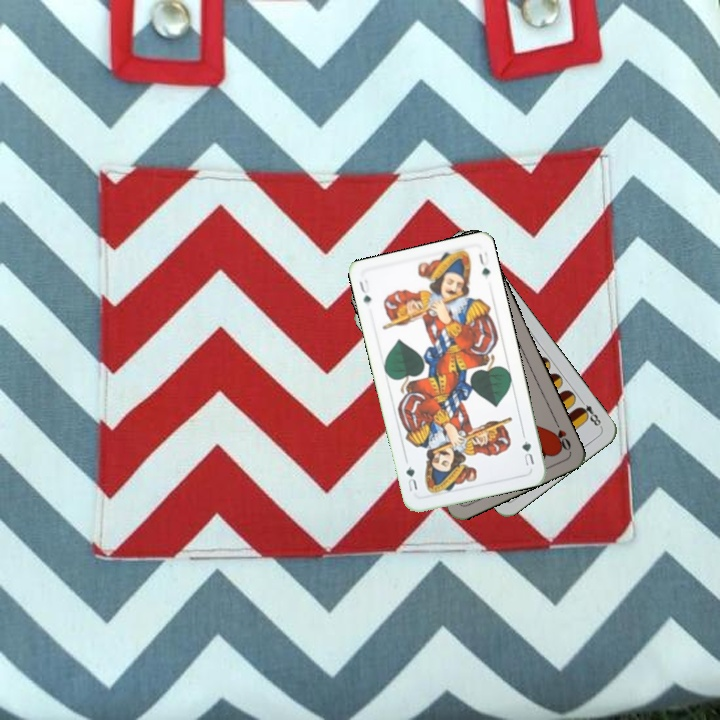E8: (574, 394, 604, 430)
GU: (518, 430, 537, 470), (355, 275, 374, 306)
HO: (549, 415, 574, 453)
